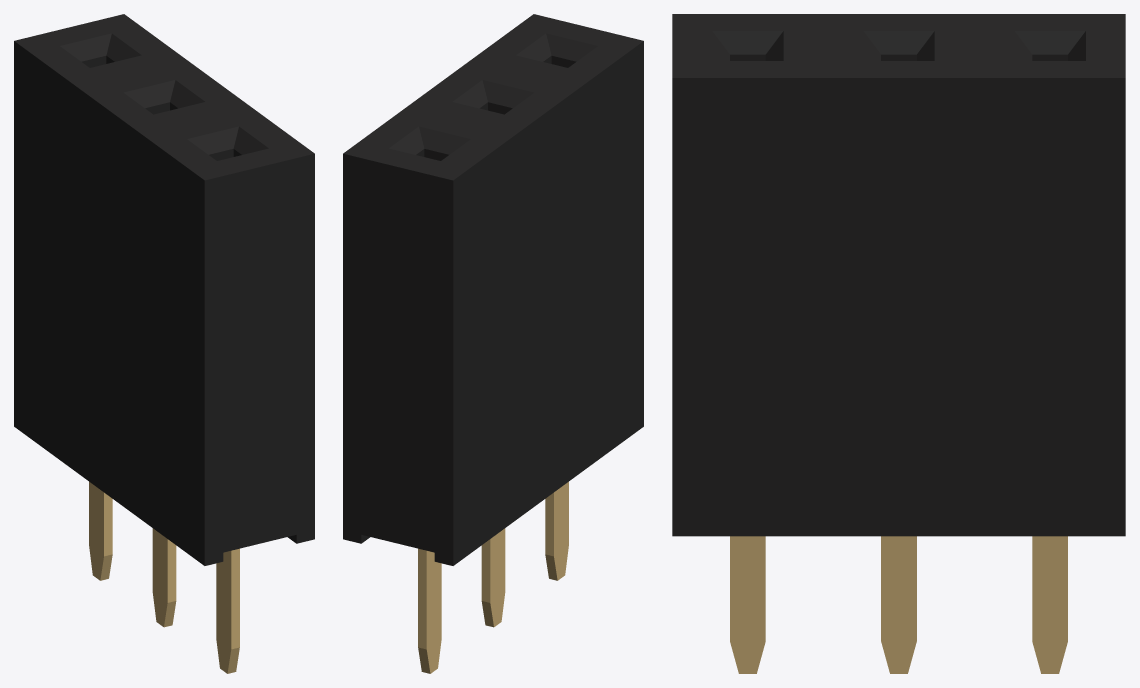
Rendered from kc-pinsocket_1x03_p2.54mm_vertical.glb.
The picture shows the model from 3 angles, left to right: view 1: azimuth 30°, elevation 25°; view 2: azimuth 150°, elevation 25°; view 3: azimuth 270°, elevation 25°; orthographic projection. The views are drawn at different scales.
Parts seen in each view (by area): view 1: 0_0_0_0, 0.75_0.5_0.25_0.9; view 2: 0_0_0_0, 0.75_0.5_0.25_0.9; view 3: 0_0_0_0, 0.75_0.5_0.25_0.9.
Part boxes in pixels (x1,y1,x2,y2): 0_0_0_0: [14, 14, 314, 565]; 0.75_0.5_0.25_0.9: [89, 481, 239, 673]; 0_0_0_0: [343, 14, 643, 565]; 0.75_0.5_0.25_0.9: [418, 481, 568, 673]; 0_0_0_0: [672, 14, 1125, 536]; 0.75_0.5_0.25_0.9: [730, 536, 1067, 673].
Size of the model in its own units: 0.254 by 1.16 by 0.762.
